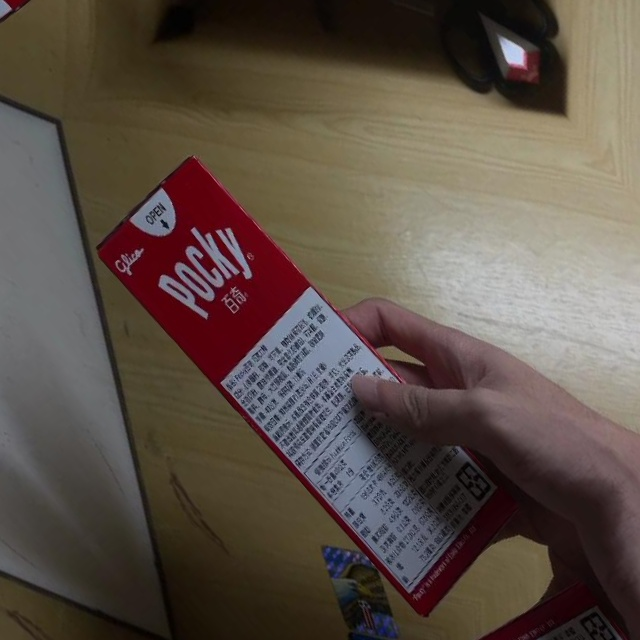Pocky: (87, 133, 541, 628)
